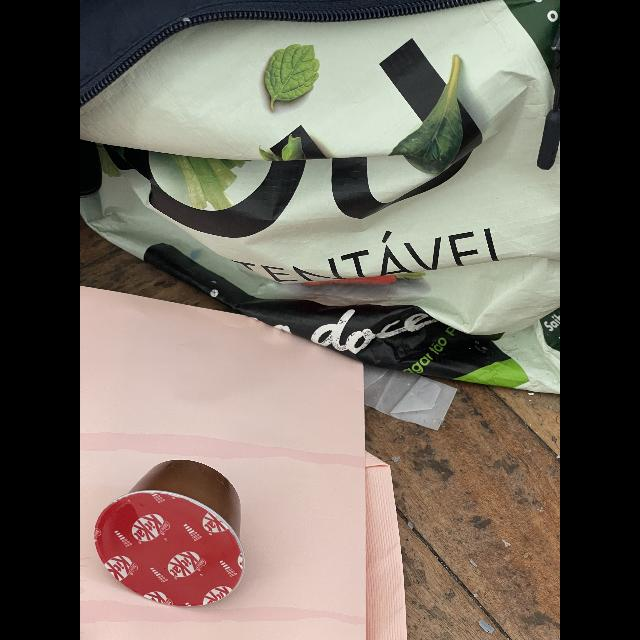intact_capsule: (89, 442, 269, 620)
